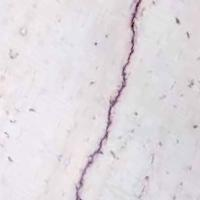crack: (65, 0, 154, 199)
